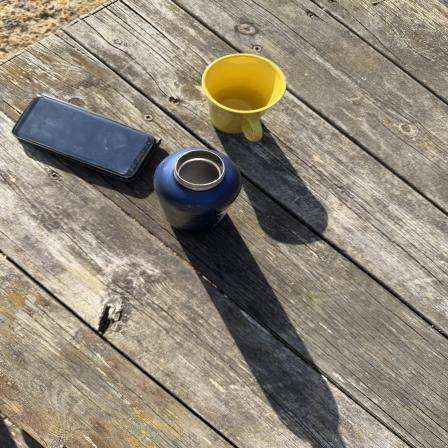blue_bottle: (158, 149, 243, 237)
phone: (8, 94, 158, 182)
yellow_cup: (202, 55, 286, 141)
